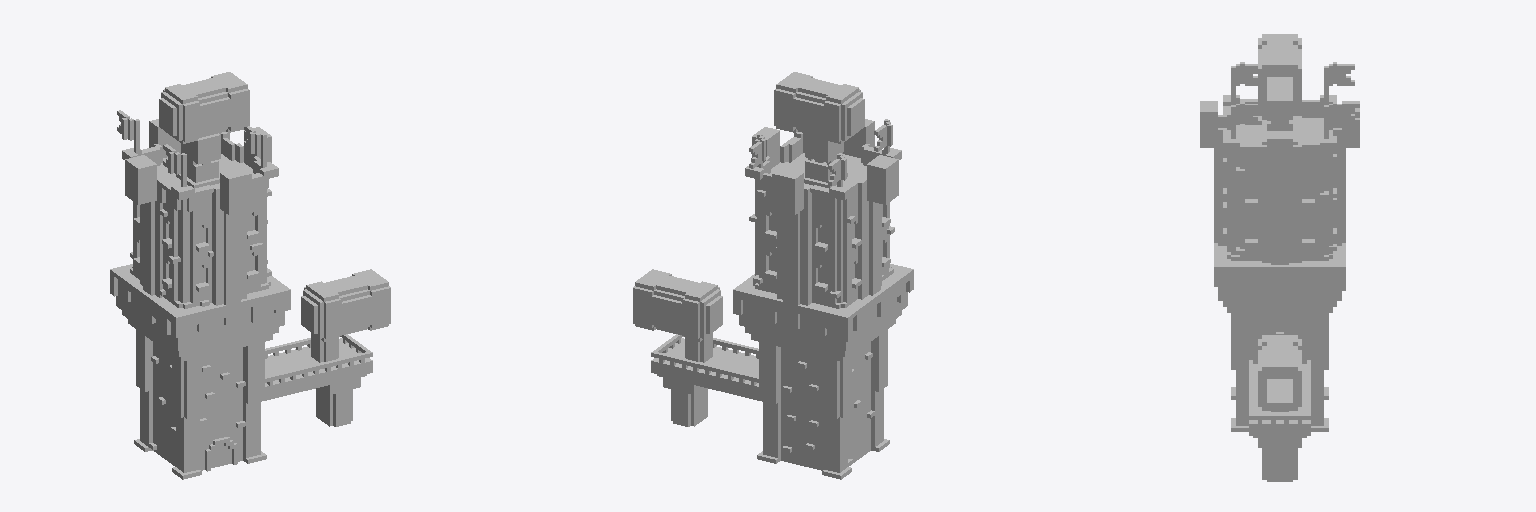
The model's file is largo alcance.obj.
3 renders of one model, left to right at view 1: azimuth 30°, elevation 25°; view 2: azimuth 150°, elevation 25°; view 3: azimuth 270°, elevation 25°, orthographic.
Visible parts, largest first — view 1: object 1; view 2: object 1; view 3: object 1.
Boxes of the visible parts, x1=… form: object 1: x1=110, y1=72, x2=390, y2=479; object 1: x1=633, y1=72, x2=913, y2=479; object 1: x1=1200, y1=34, x2=1359, y2=481.
Bounding box in the file's own units: 6.5 × 9.1 × 3.6.